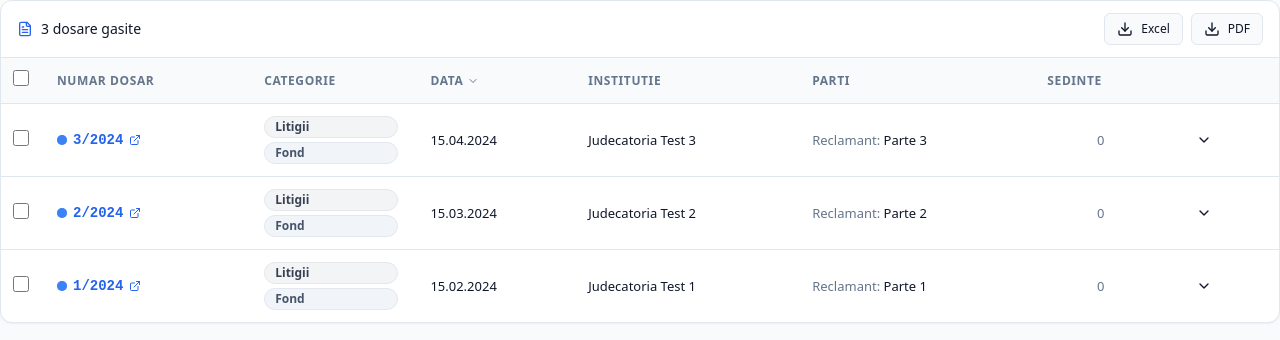
Test: DosareTable — characterization (render + state) › selectia rowurilor cumuleaza count-ul si afiseaza badge-ul '(N selectate)'
This screenshot has width=1280, height=340.
Click the checkbox next to "3/2024" at (21, 138), box 13,130 -> 29,146
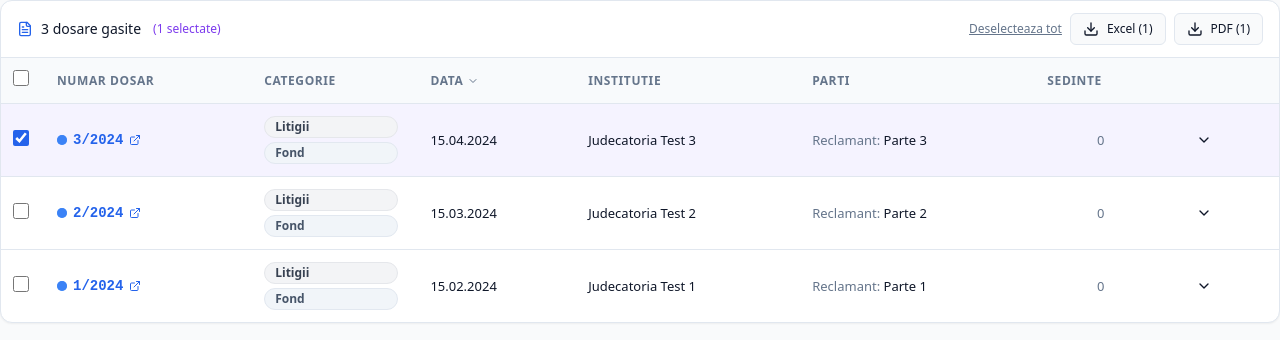
Click the checkbox next to "1/2024" at (21, 284), box 13,276 -> 29,292
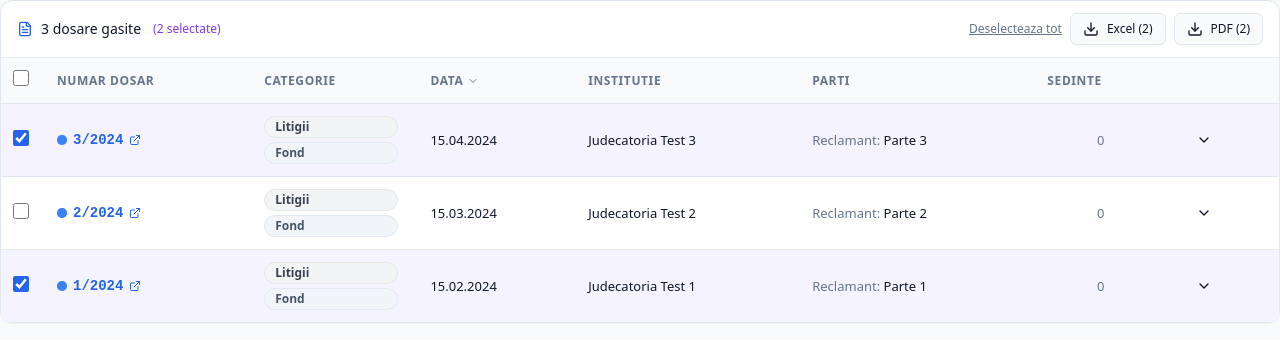
Check: the text "(2 selectate)" is shown, box 153,21 -> 221,37
